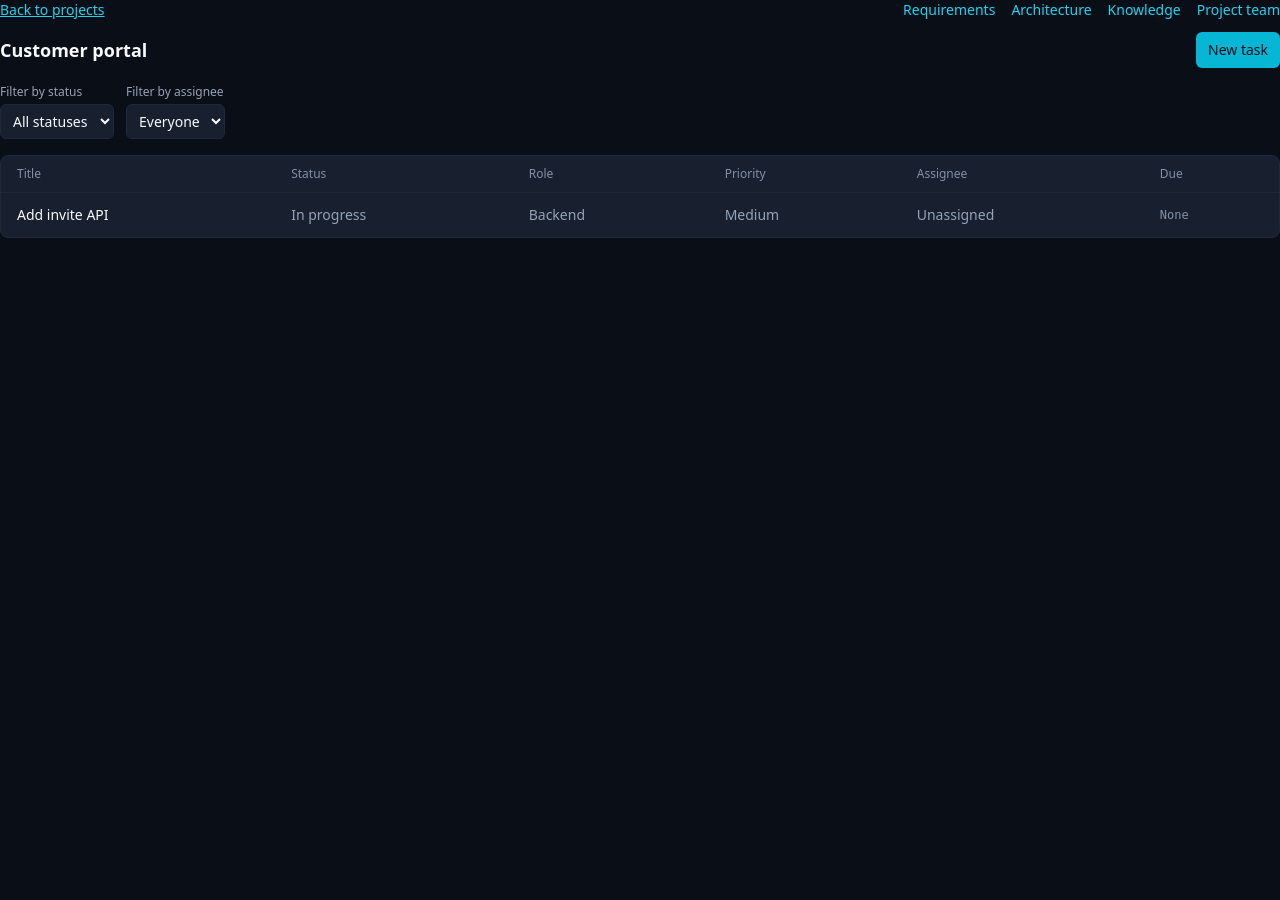
Test case: task review flow › submits, withdraws and reopens a task
Click the button "Add invite API": coordinates (63, 215) left=17, top=205, right=108, bottom=225
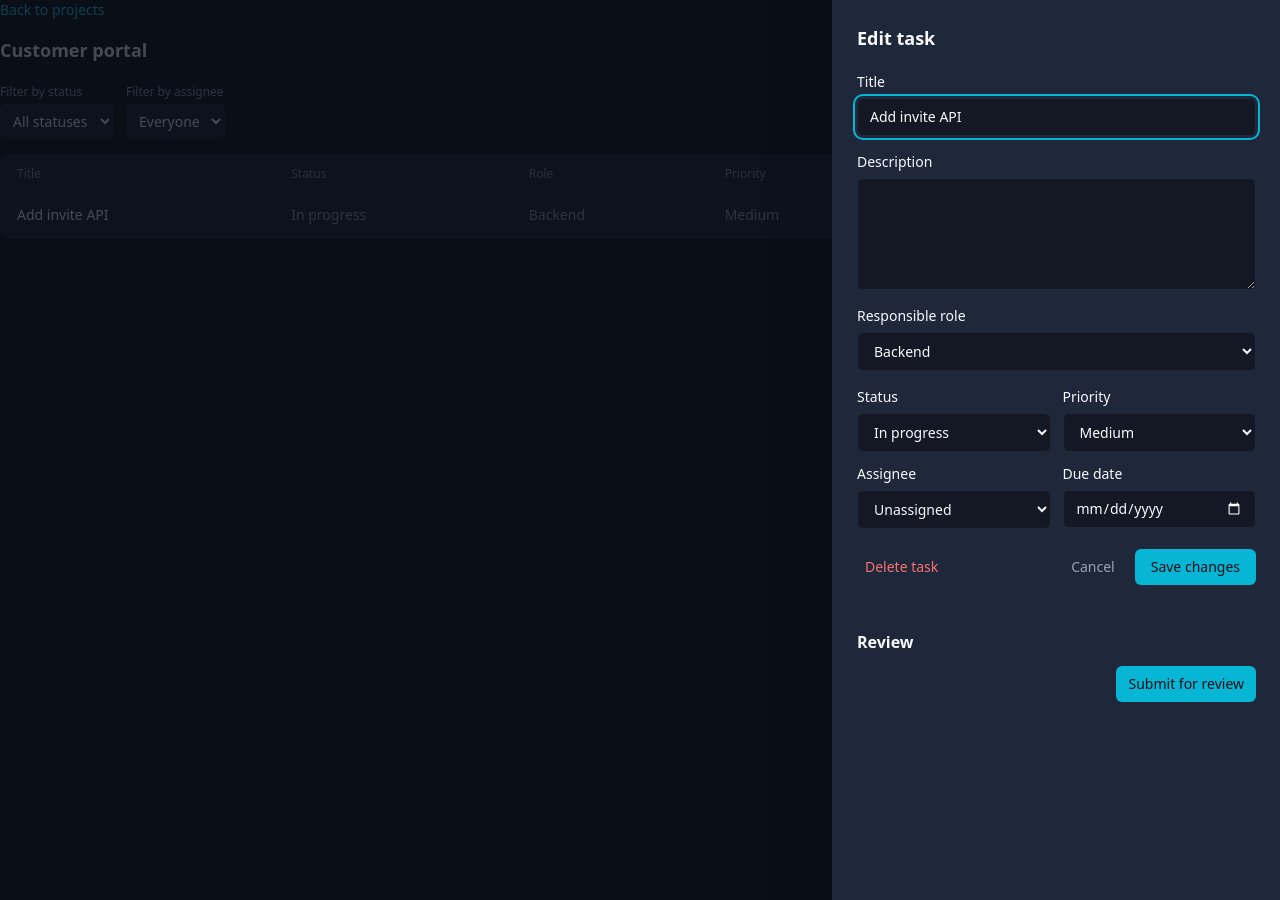
Click the button "Submit for review": coordinates (1186, 684) left=1116, top=666, right=1256, bottom=702
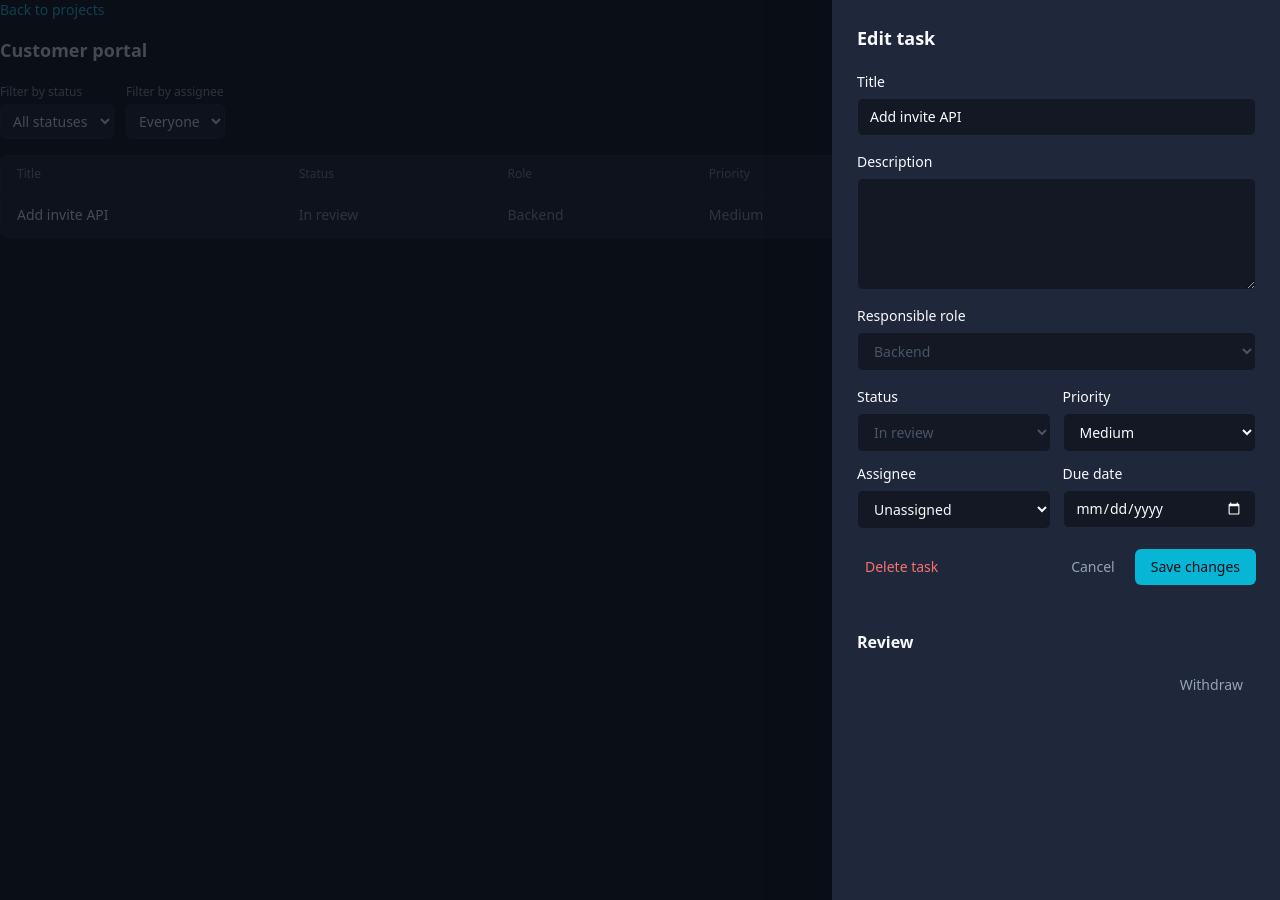
Click the button "Withdraw": coordinates (1211, 685) left=1167, top=666, right=1256, bottom=704
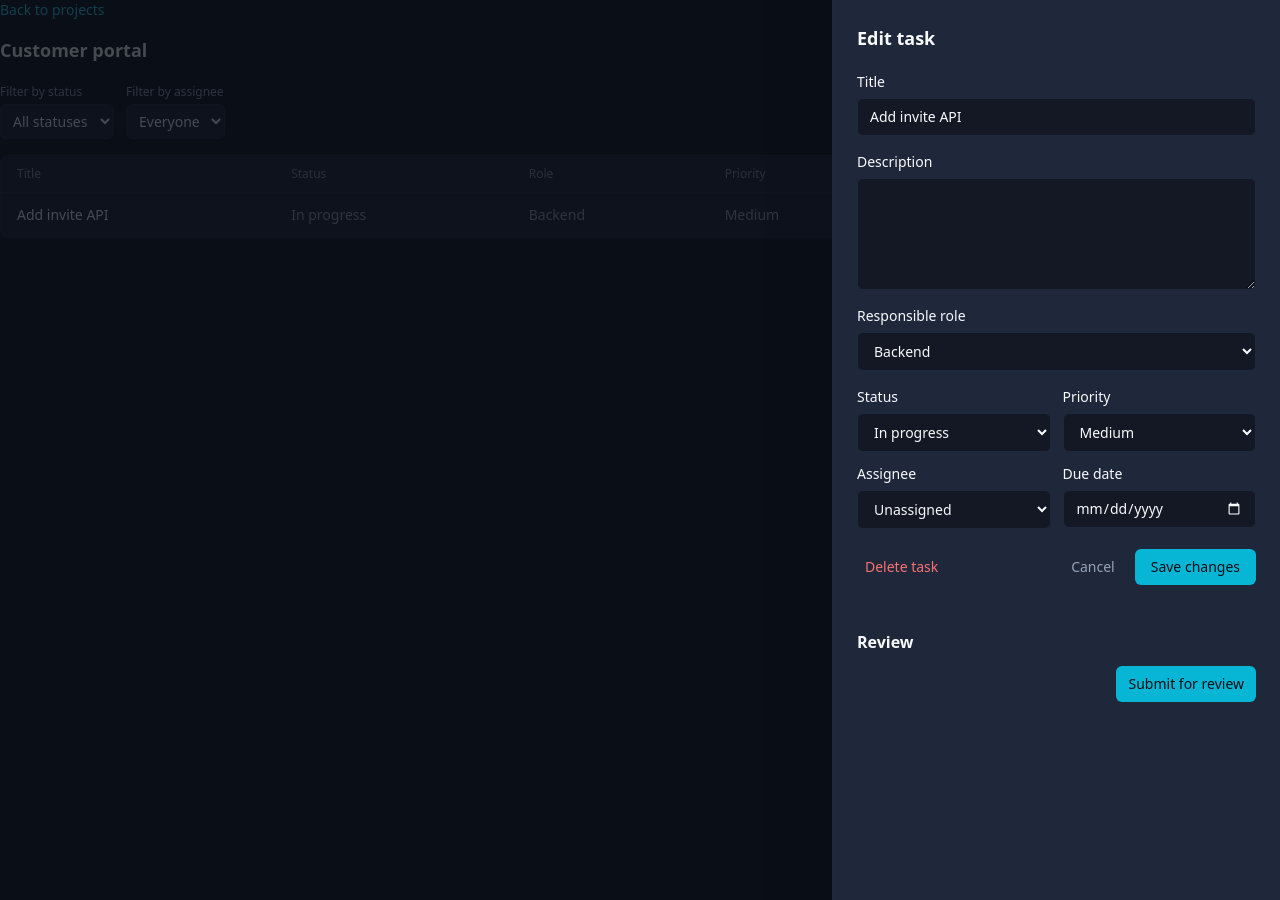
expect the button "Submit for review" is shown: met, box left=1116, top=666, right=1256, bottom=702
